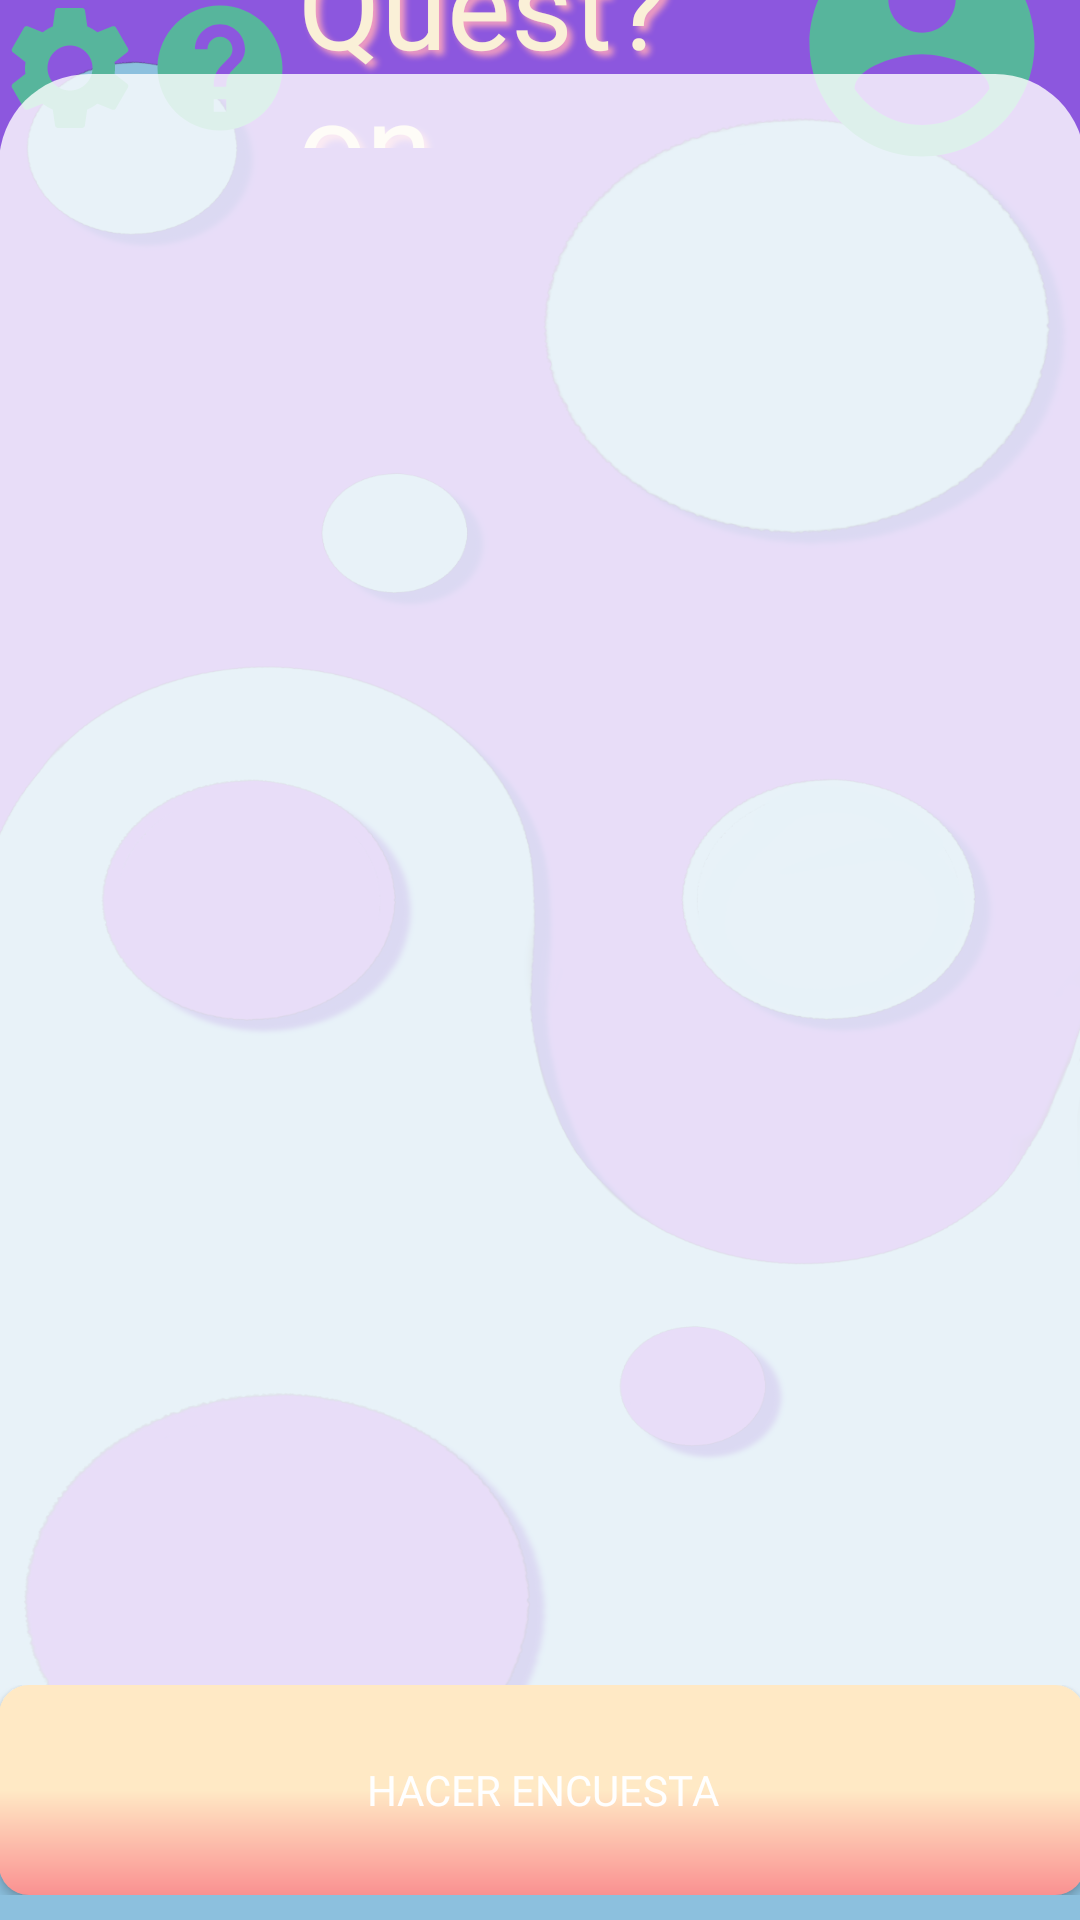

Where to tap for icons on this 1080×1920 app screen, as [x,y]:
help: [220,71]
settings: [72,71]
